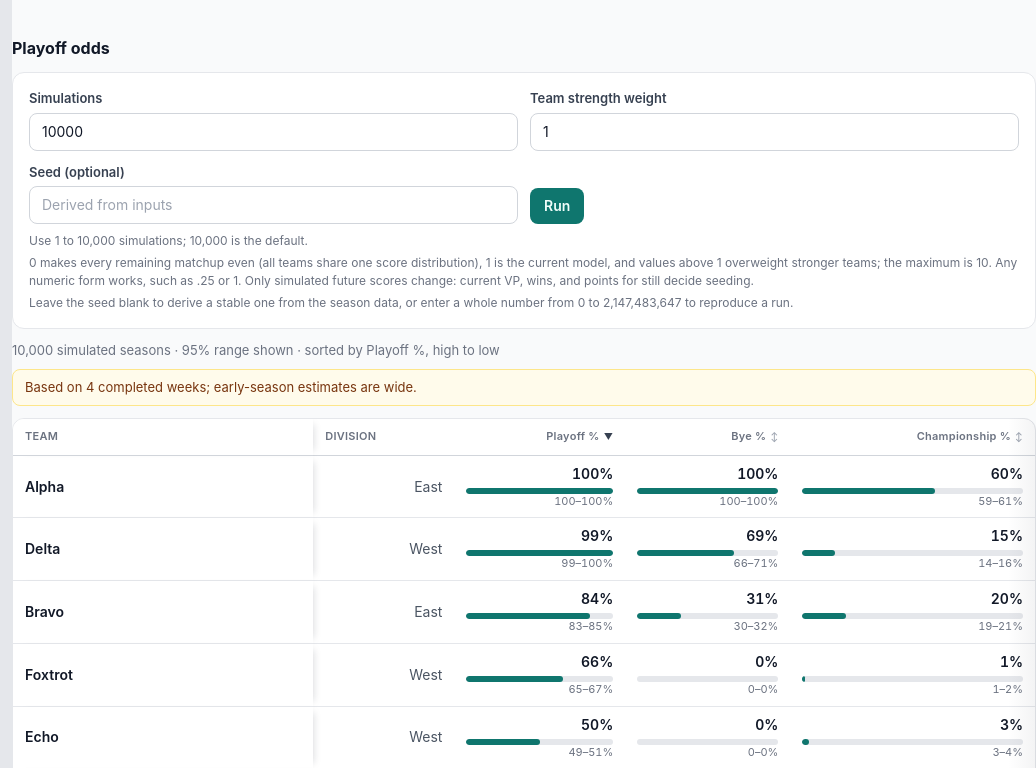
Test: PlayoffOddsSection (AC-PO-11) › sorts by playoff, bye, and championship probability but never by team
Click the button with aria-label "Sort by Playoff %" at [540, 437], box left=466, top=427, right=613, bottom=447
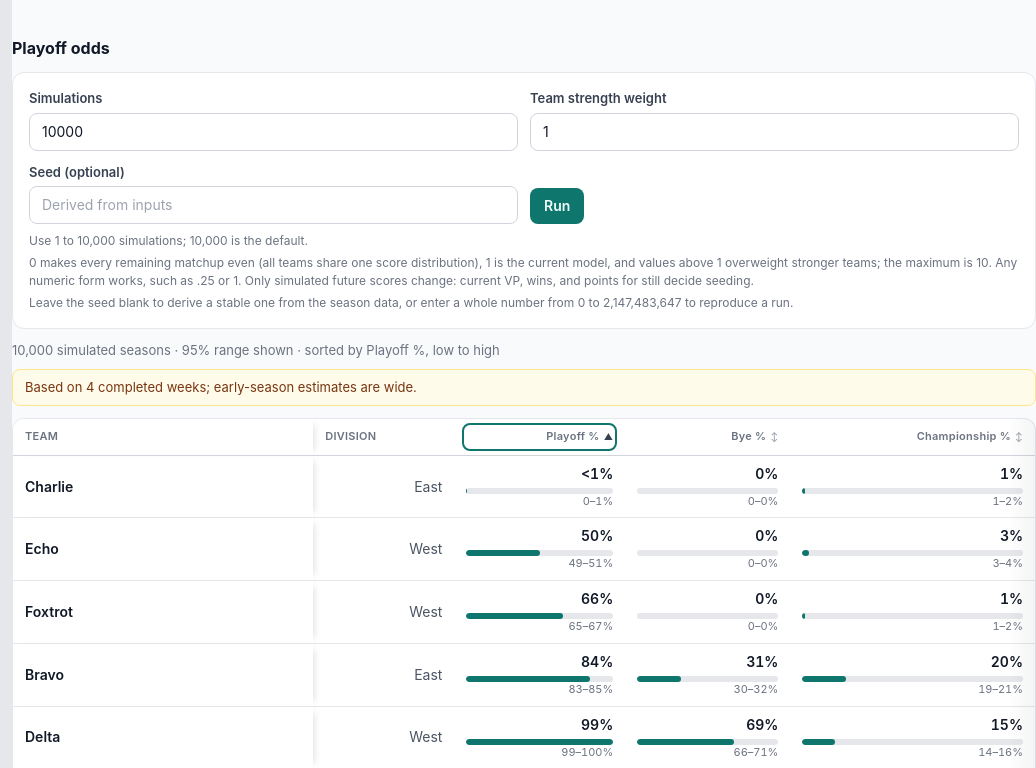
expect the text "Charlie" is shown: met, box left=25, top=478, right=73, bottom=494
expect the column heading "Playoff %" has attribute aria-sort="ascending": met, box left=454, top=419, right=625, bottom=456
Click the button with aria-label "Sort by Bye %" at [708, 437], box left=637, top=427, right=778, bottom=447
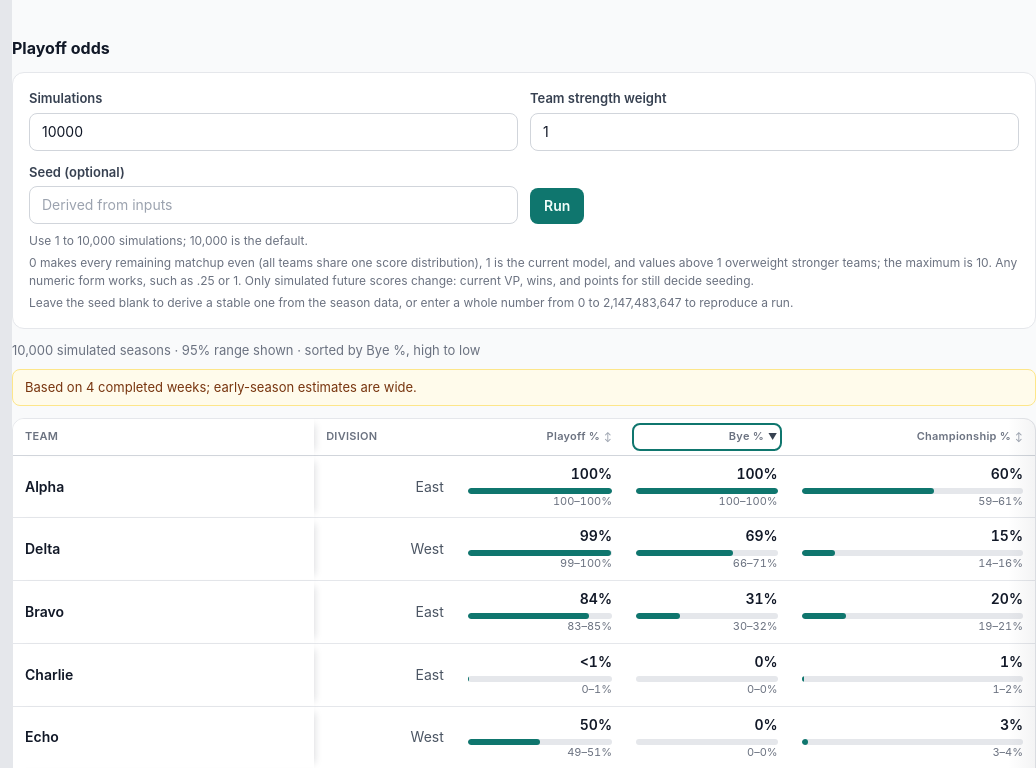
expect the text "Alpha" is shown: met, box left=25, top=478, right=64, bottom=494
expect the column heading "Bye %" has attribute aria-sort="descending": met, box left=624, top=419, right=790, bottom=456
Click the button with aria-label "Sort by Bye %" at [707, 437], box left=636, top=427, right=778, bottom=447
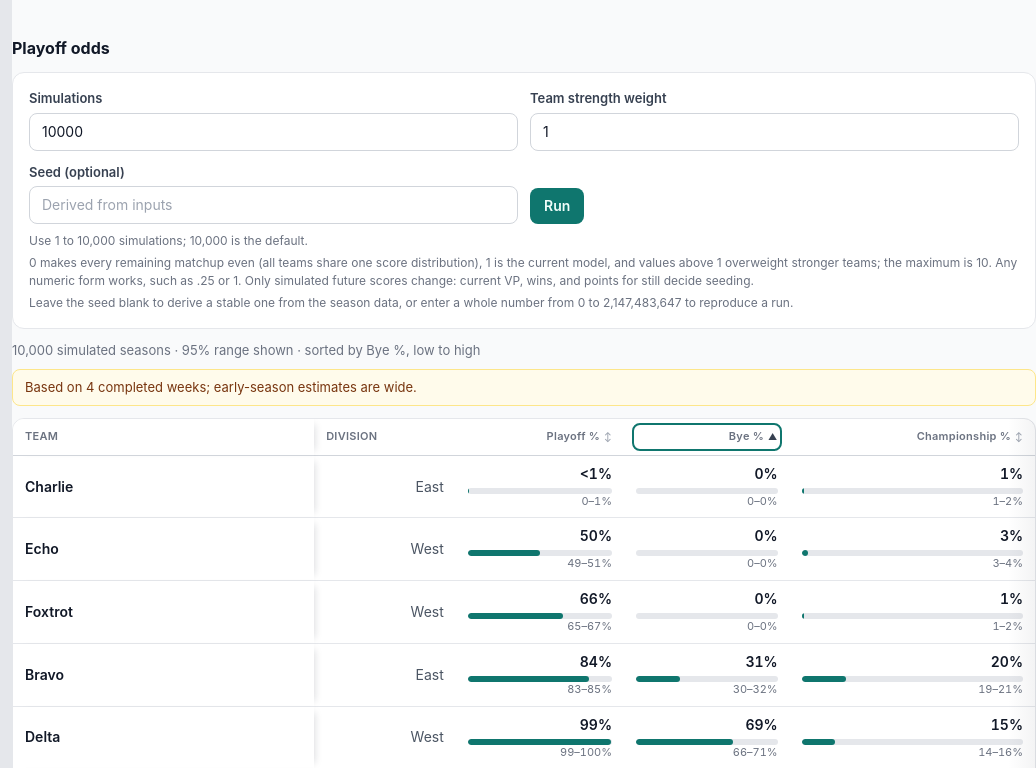
expect the text "Charlie" is shown: met, box left=25, top=478, right=73, bottom=494
expect the text "sorted by Bye %, low to high" is shown: met, box left=305, top=342, right=480, bottom=358
Click the button with aria-label "Sort by Championship %" at [912, 437], box left=802, top=427, right=1023, bottom=447
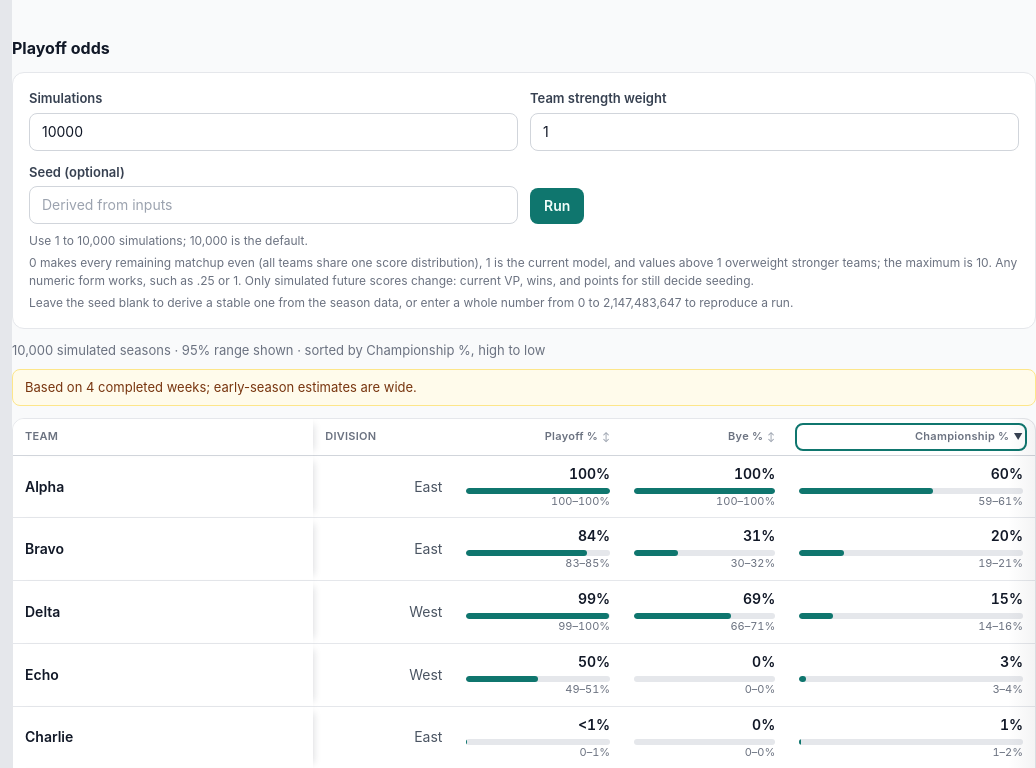
expect the text "Alpha" is shown: met, box left=25, top=478, right=64, bottom=494
expect the text "sorted by Championship %, high to low" is shown: met, box left=305, top=342, right=545, bottom=358
